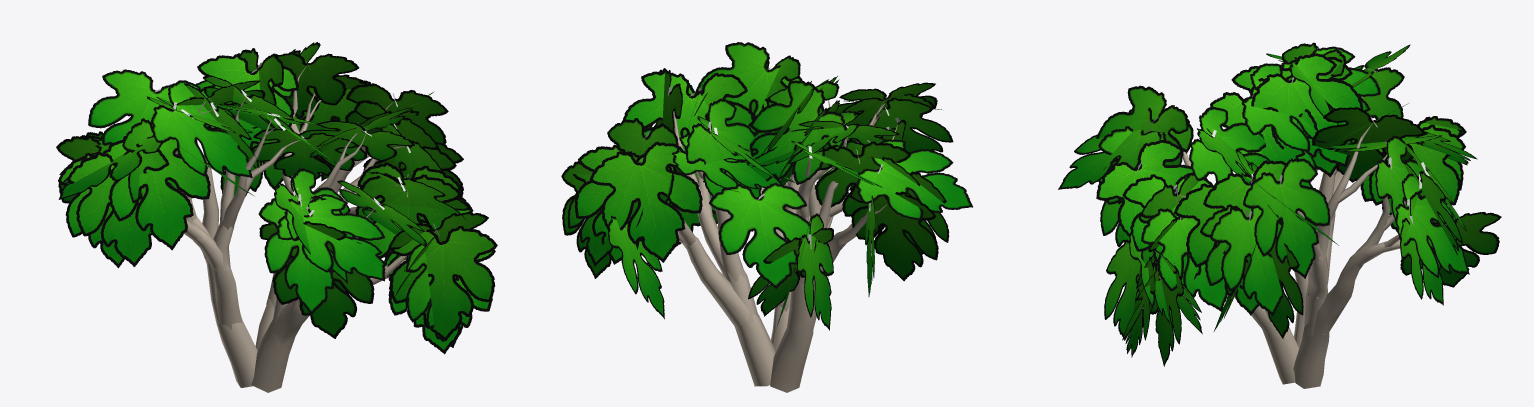
The model's file is Stage 2 Asset.fbx.
3 renders of one model, left to right at view 1: azimuth 30°, elevation 25°; view 2: azimuth 150°, elevation 25°; view 3: azimuth 270°, elevation 25°, orthographic. The views are drawn at different scales.
Visible parts, largest first — view 1: leaves|fOGLIA_fICO_iMMAHGINE|Dupli|, tree, leaves; view 2: leaves|fOGLIA_fICO_iMMAHGINE|Dupli|, tree; view 3: leaves|fOGLIA_fICO_iMMAHGINE|Dupli|, tree.
Part boxes in pixels (x1,y1,x2,y2): leaves|fOGLIA_fICO_iMMAHGINE|Dupli|: (56, 42, 497, 354); tree: (175, 66, 436, 392); leaves: (154, 60, 439, 235); leaves|fOGLIA_fICO_iMMAHGINE|Dupli|: (561, 42, 972, 330); tree: (625, 100, 897, 392); leaves|fOGLIA_fICO_iMMAHGINE|Dupli|: (1058, 42, 1501, 366); tree: (1178, 71, 1424, 388).
Size of the model in its own units: 951 by 1031 by 753.
